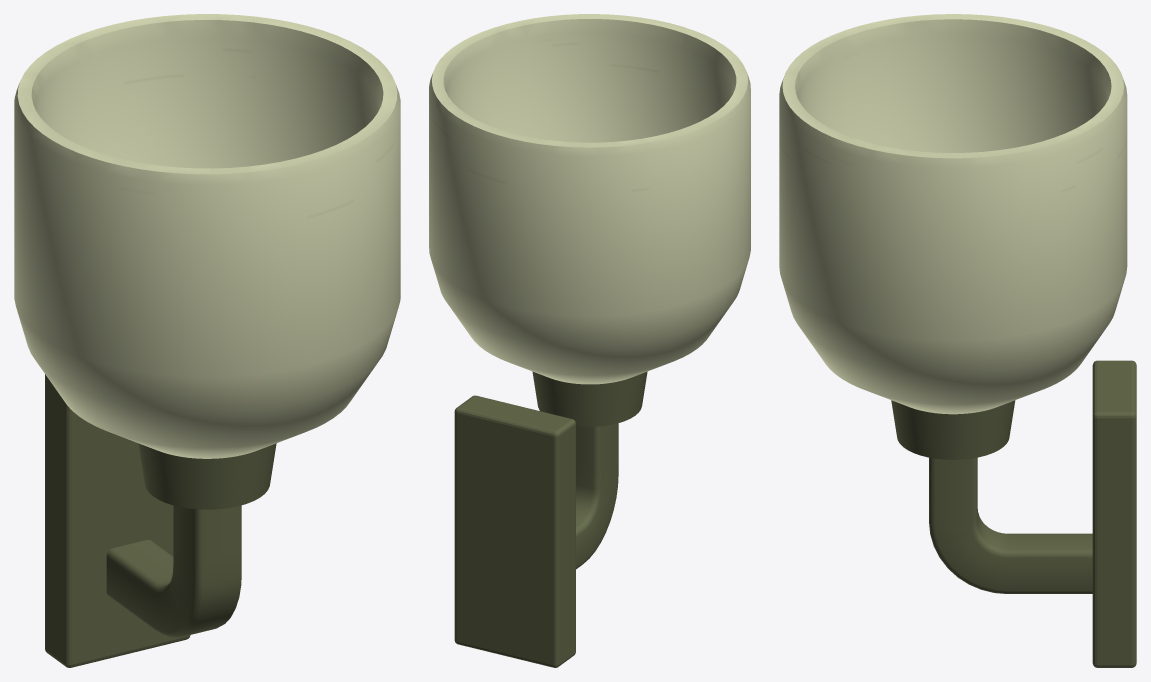
The model's file is StraightLamp_ARCH01_ARM_C1.fbx.
The picture shows the model from 3 angles, left to right: view 1: azimuth 30°, elevation 25°; view 2: azimuth 150°, elevation 25°; view 3: azimuth 270°, elevation 25°; orthographic projection. The views are drawn at different scales.
Parts seen in each view (by area): view 1: StraightLamp; view 2: StraightLamp; view 3: StraightLamp.
Part boxes in pixels (x1,y1,x2,y2): StraightLamp: (14,14,400,667); StraightLamp: (429,14,750,667); StraightLamp: (779,14,1136,667).
Size of the model in its own units: 0.222 by 0.3914 by 0.228.
Materials: 2 (1 with a texture image).
